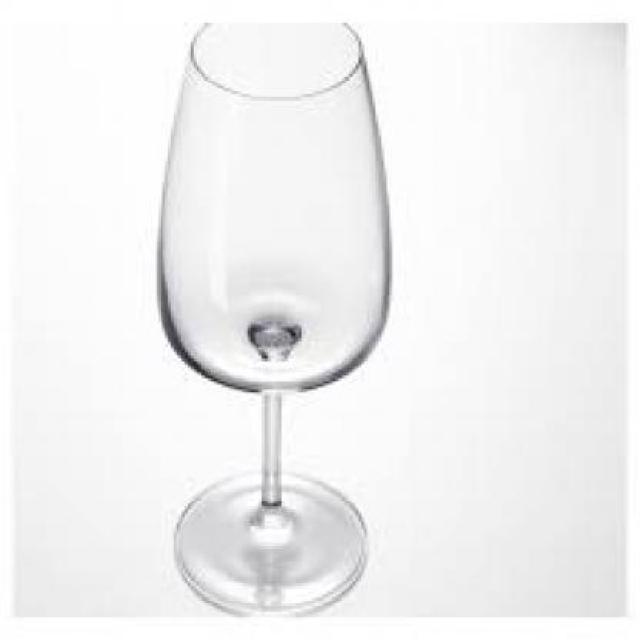kaca: (157, 17, 388, 612)
